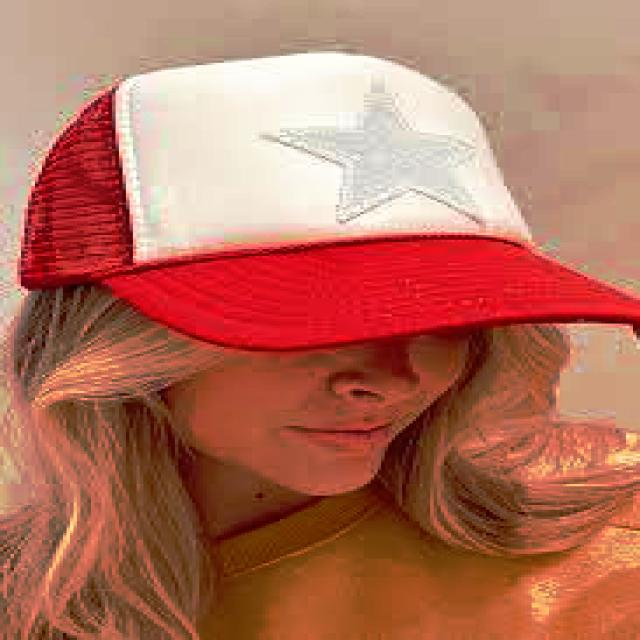TOPI: (14, 47, 636, 356)
